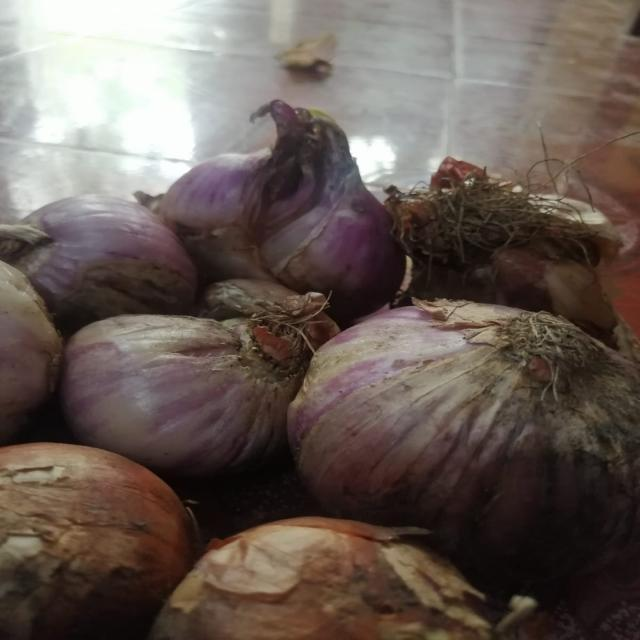rotten: (268, 110, 358, 252), (577, 358, 636, 477), (159, 288, 276, 322)
